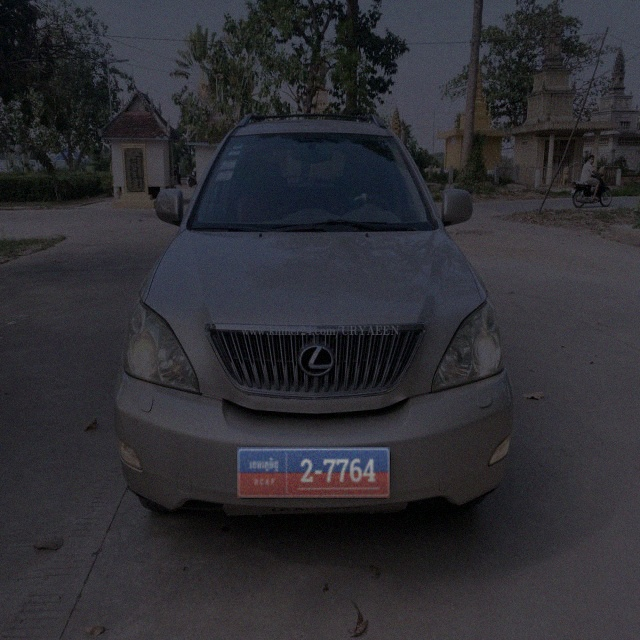Plate Number: (238, 448, 390, 498)
